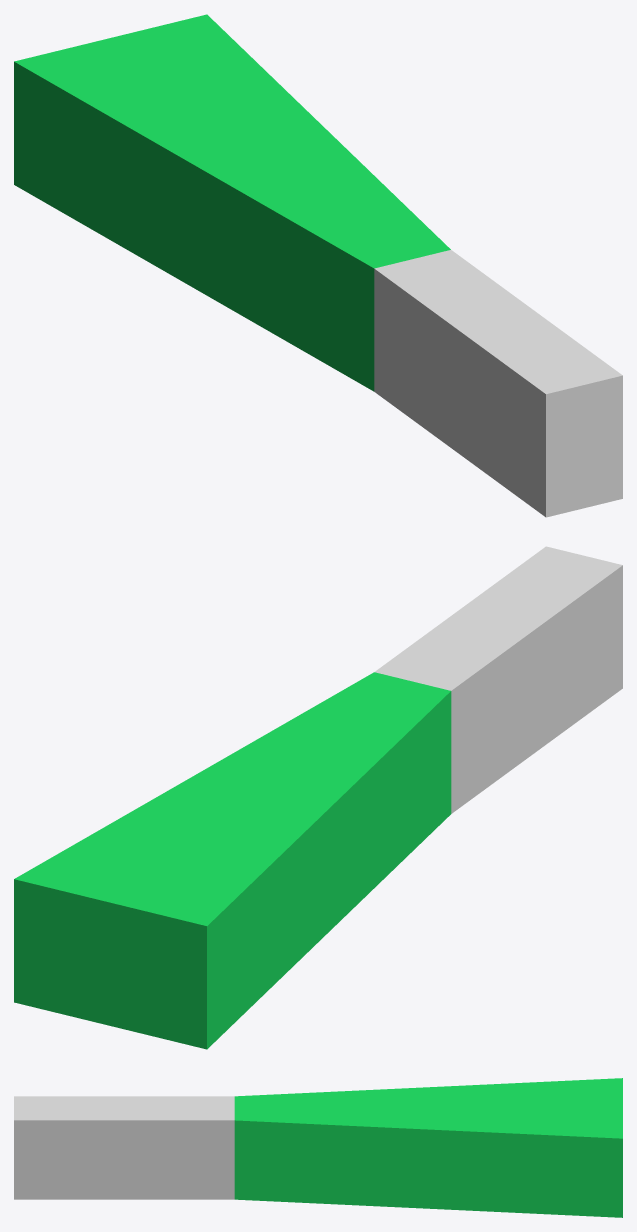
File: onion.glb
3 renders of one model, top to bottom at view 1: azimuth 30°, elevation 25°; view 2: azimuth 150°, elevation 25°; view 3: azimuth 270°, elevation 25°, orthographic. The views are drawn at different scales.
Parts seen in each view (by area): view 1: Cube.001; view 2: Cube.001; view 3: Cube.001.
Boxes of the visible parts, left/top/right/bottom form: Cube.001: left=14, top=14, right=622, bottom=517; Cube.001: left=14, top=546, right=622, bottom=1049; Cube.001: left=14, top=1078, right=622, bottom=1217.
Bounding box in the file's own units: 0.1497 × 0.0913 × 0.6363.
